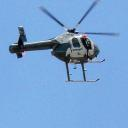helicopter: (9, 2, 120, 84)
